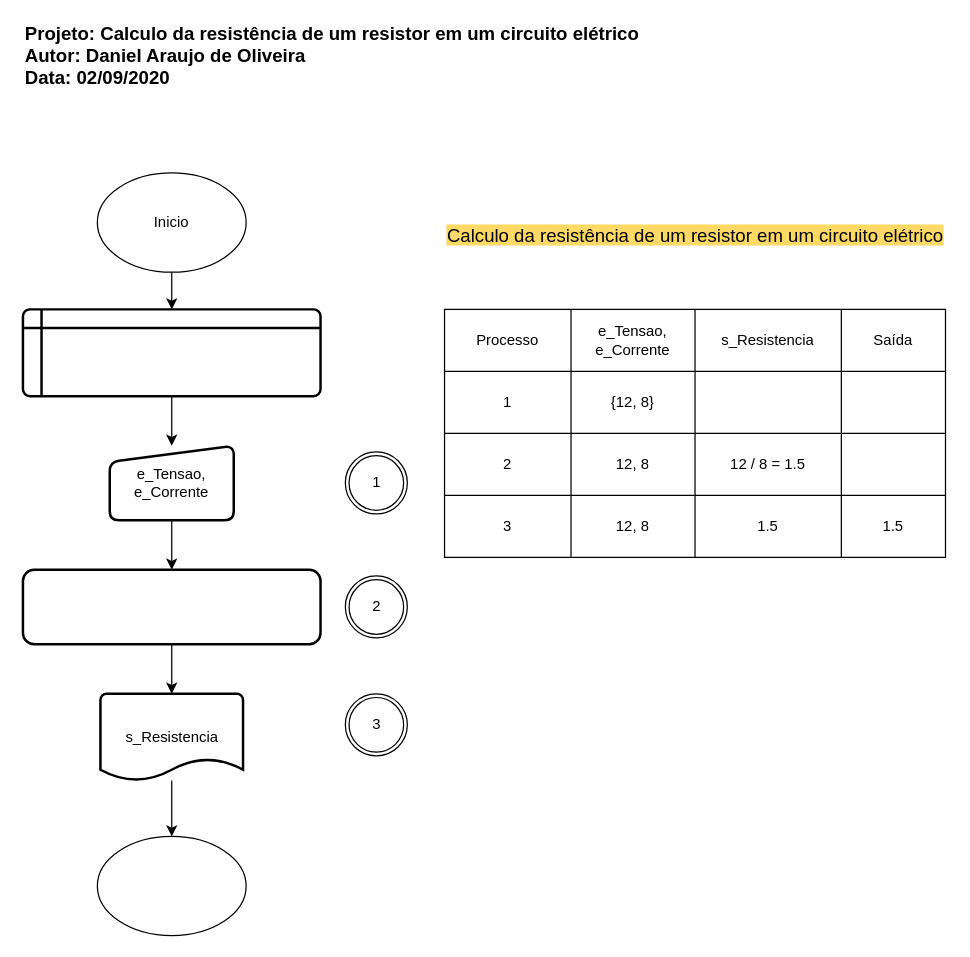
This 970x957 diagram has some shape labels left out. Here are the shapes that lost their labels. From the top down, the box of each, then its label:
(21, 308, 321, 397): e_Tensao, e_Corrente, s_Resistencia
(21, 568, 321, 645): s_Resistencia = e_Tensao / e_Corrente
(96, 835, 246, 936): Fim
